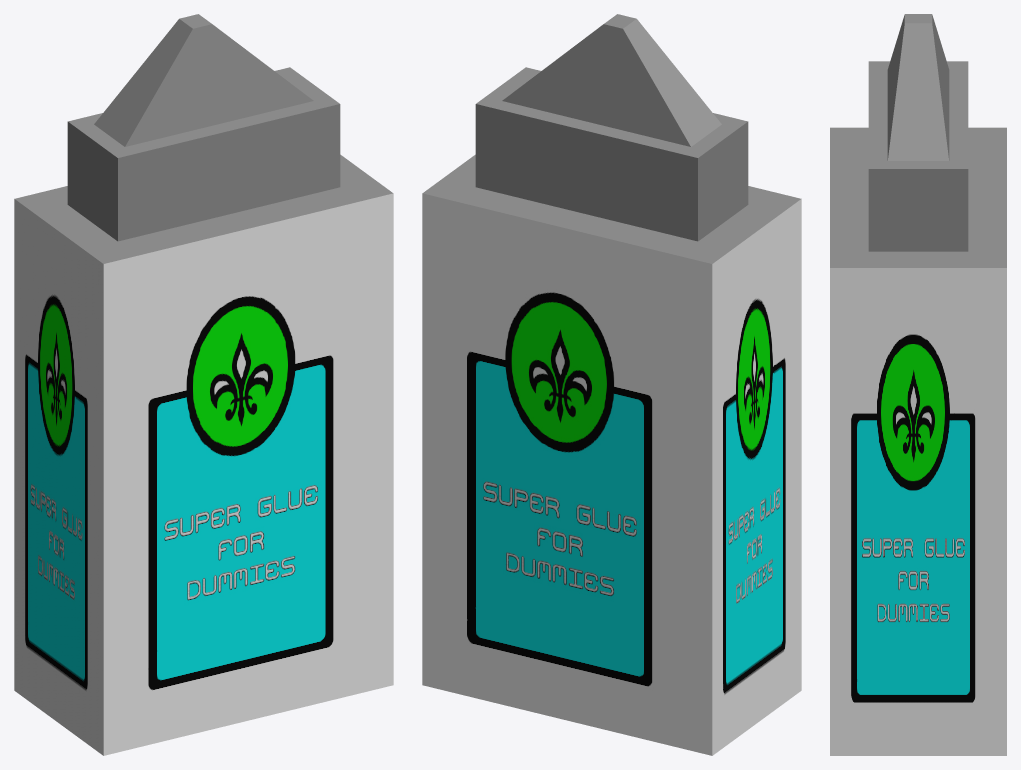
The model's file is Glue.FBX.
3 renders of one model, left to right at view 1: azimuth 30°, elevation 25°; view 2: azimuth 150°, elevation 25°; view 3: azimuth 270°, elevation 25°, orthographic.
Parts seen in each view (by area): view 1: Box001; view 2: Box001; view 3: Box001.
Boxes of the visible parts, x1,y1,x2,y2 form: Box001: (14,14,393,755); Box001: (422,14,801,755); Box001: (830,14,1006,755).
Bounding box in the file's own units: 36.38 × 80.18 × 19.38.
